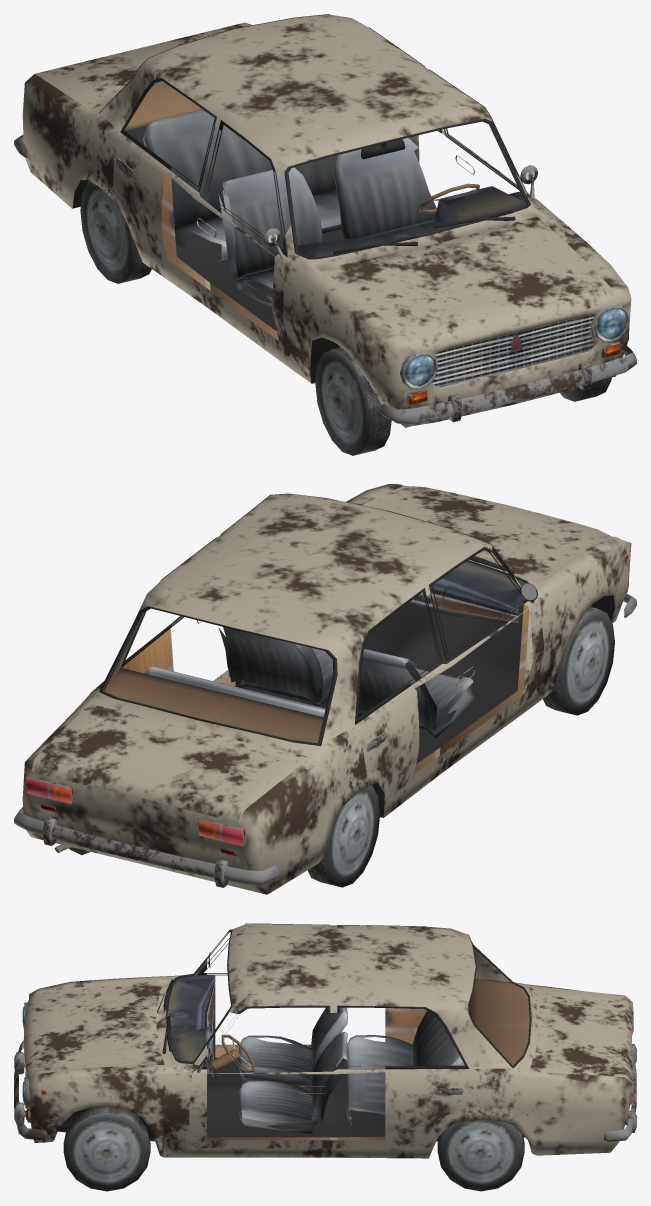
Rendered from body.glb.
3 views of the same model, one above another, from view 1: azimuth 30°, elevation 25°; view 2: azimuth 150°, elevation 25°; view 3: azimuth 270°, elevation 25° (orthographic). The views are drawn at different scales.
Size of the model in its own units: 1.9 by 1.56 by 4.68.
Materials: 1 (1 with a texture image).
